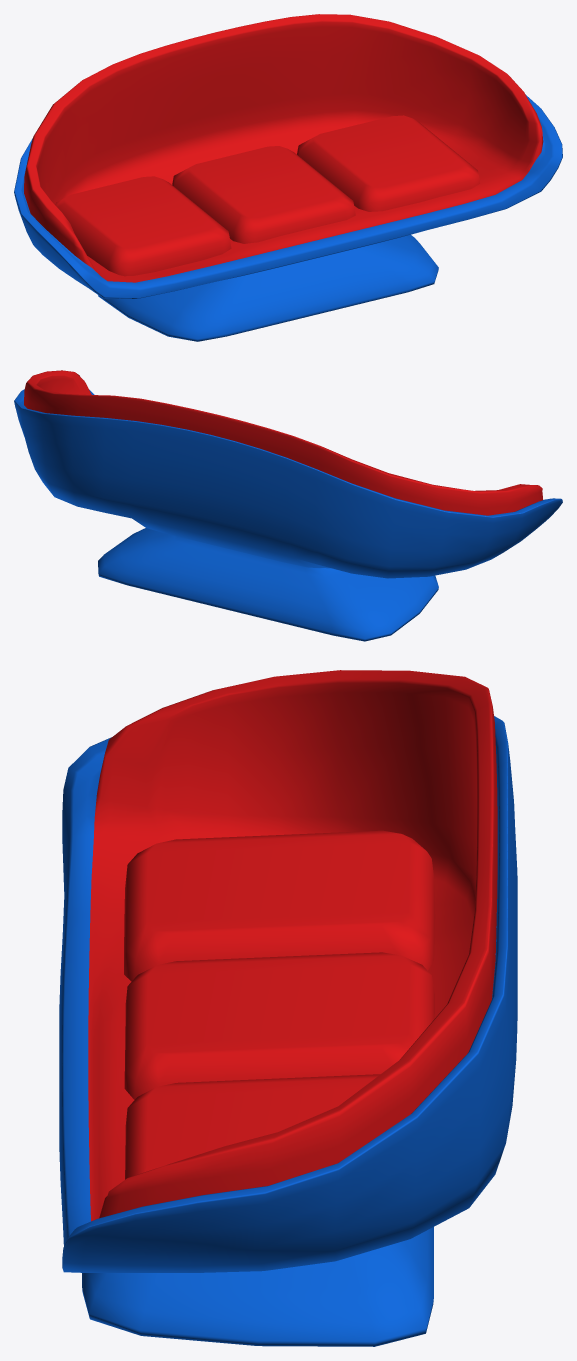
The model's file is SM_Sofa.fbx.
3 views of the same model, one above another, from view 1: azimuth 30°, elevation 25°; view 2: azimuth 150°, elevation 25°; view 3: azimuth 270°, elevation 25° (orthographic). The views are drawn at different scales.
Visible parts, largest first — view 1: SHELF.003; view 2: SHELF.003; view 3: SHELF.003.
Part boxes in pixels (bbox=[...]): SHELF.003: bbox=[14, 14, 562, 341]; SHELF.003: bbox=[14, 370, 562, 641]; SHELF.003: bbox=[59, 670, 517, 1346].
Size of the model in its own units: 195 by 76.89 by 76.68.
